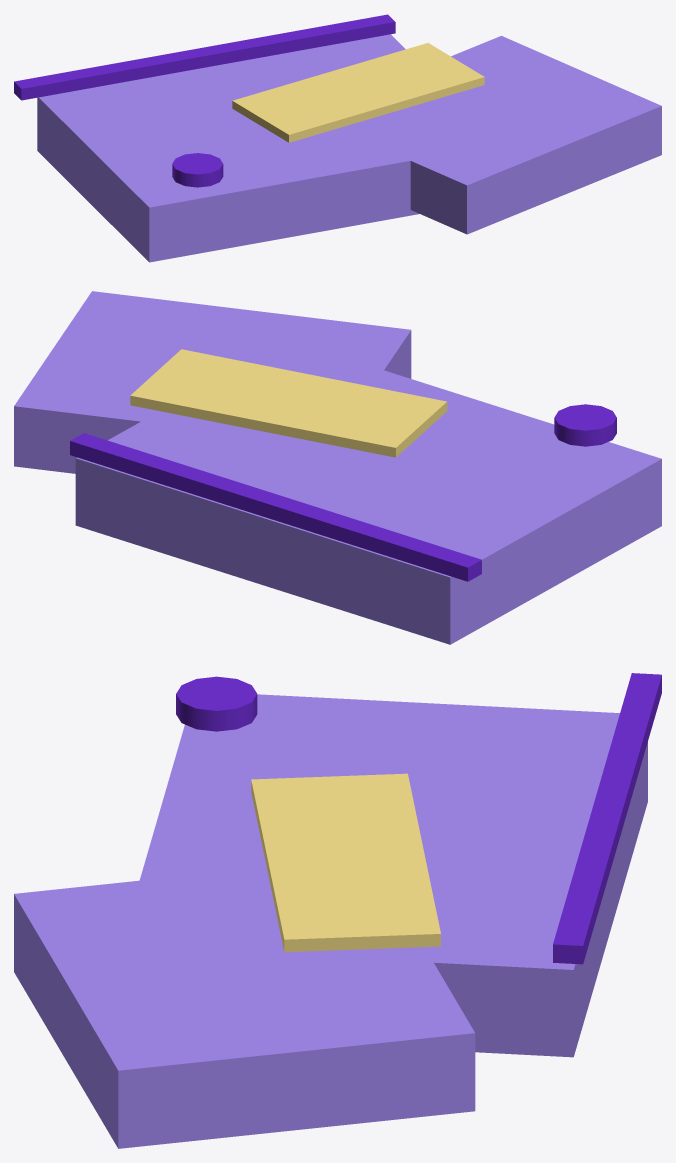
The model's file is toy_broken_puzzle_piece.glb.
3 renders of one model, top to bottom at view 1: azimuth 30°, elevation 25°; view 2: azimuth 150°, elevation 25°; view 3: azimuth 270°, elevation 25°, orthographic. The views are drawn at different scales.
Parts seen in each view (by area): view 1: solid_1, solid_2, solid_4, solid_3, solid_5; view 2: solid_1, solid_2, solid_4, solid_3, solid_5; view 3: solid_1, solid_2, solid_4, solid_3, solid_5.
Boxes of the visible parts, box(x1,y1,x2,y2) form: solid_1: box(37, 34, 500, 262); solid_2: box(338, 36, 661, 234); solid_4: box(232, 43, 484, 142); solid_3: box(14, 14, 395, 100); solid_5: box(172, 153, 223, 187); solid_1: box(75, 339, 661, 644); solid_2: box(14, 291, 411, 473); solid_4: box(130, 349, 447, 457); solid_3: box(70, 433, 481, 581); solid_5: box(554, 404, 616, 446); solid_1: box(120, 694, 647, 1057); solid_2: box(14, 868, 475, 1148); solid_4: box(251, 773, 440, 952); solid_3: box(553, 673, 661, 964); solid_5: box(176, 676, 257, 731).
Bounding box in the file's own units: 3.54 × 0.555 × 2.55.
